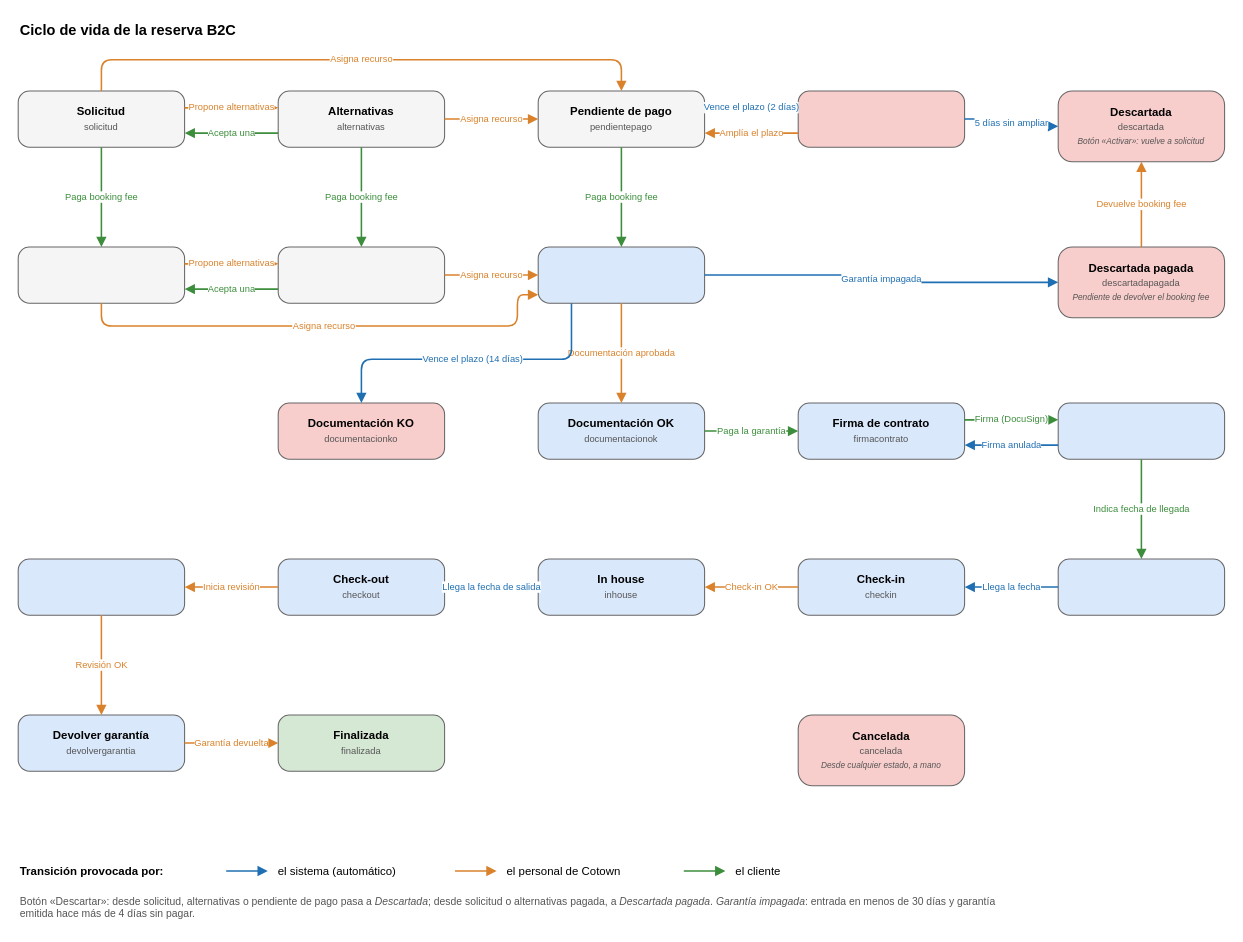
Some shapes in this 1243 by 942 pixel diagram are drawn without their labels. The shapes that lost their labels are listed below. From the top down, each one's box as (x1, y1, x2, y2) in pixels, then its label:
(797, 90, 965, 147): Caducada caducada
(17, 246, 185, 303): Solicitud pagada solicitudpagada
(277, 246, 445, 303): Alternativas pagada alternativaspagada
(537, 246, 705, 303): Confirmada confirmada
(1057, 402, 1225, 459): Contrato contrato
(17, 558, 185, 615): Revisión revision
(1057, 558, 1225, 615): Check-in confirmado checkinconfirmado
